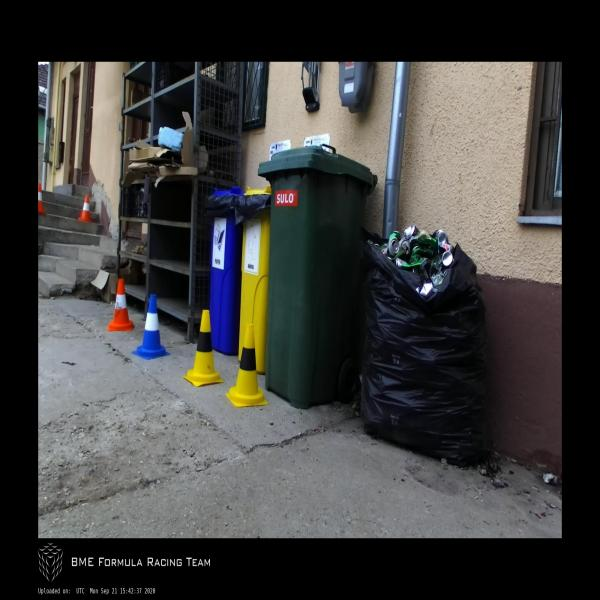blue_cone: (132, 295, 170, 360)
orange_cone: (107, 279, 134, 331), (78, 196, 92, 222), (38, 182, 46, 214)
yellow_cone: (226, 323, 268, 408), (183, 310, 224, 387)
